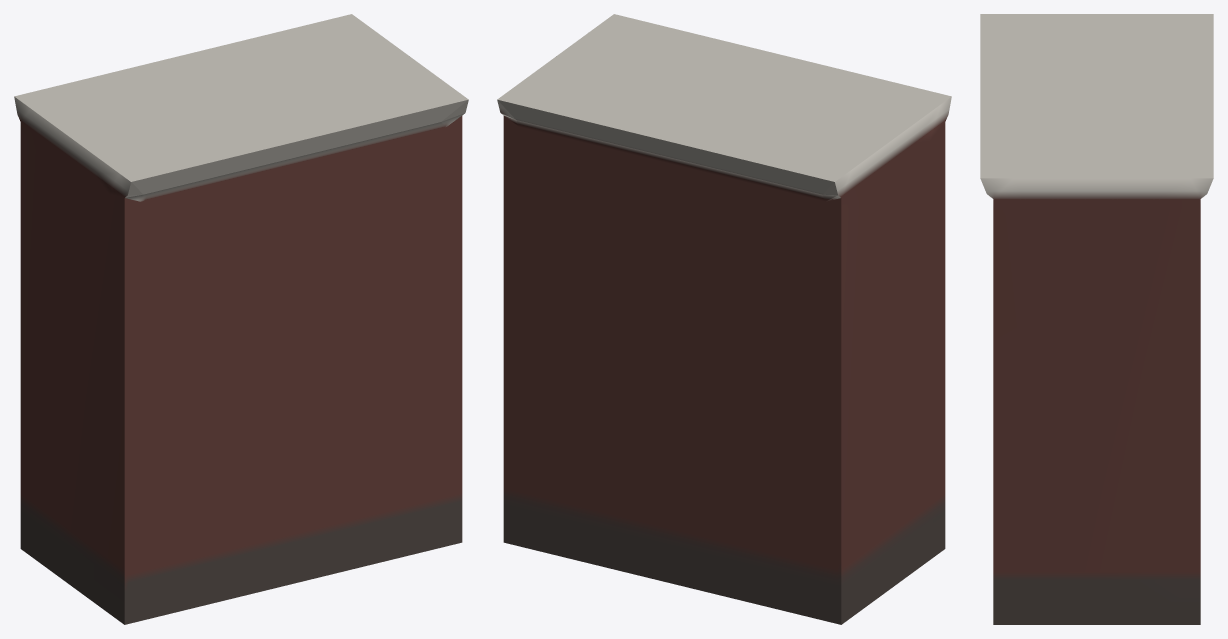
The model's file is tru_lan_can_ha_long.mid.glb.
3 views of the same model, side by side, from view 1: azimuth 30°, elevation 25°; view 2: azimuth 150°, elevation 25°; view 3: azimuth 270°, elevation 25° (orthographic).
Parts seen in each view (by area): view 1: drawing; view 2: drawing; view 3: drawing.
Boxes of the visible parts, x1,y1,x2,y2 form: drawing: [14, 14, 468, 624]; drawing: [497, 14, 951, 624]; drawing: [980, 14, 1213, 624].
Size of the model in its own units: 0.75 by 0.95 by 0.4499.
Materials: 1 (1 with a texture image).
